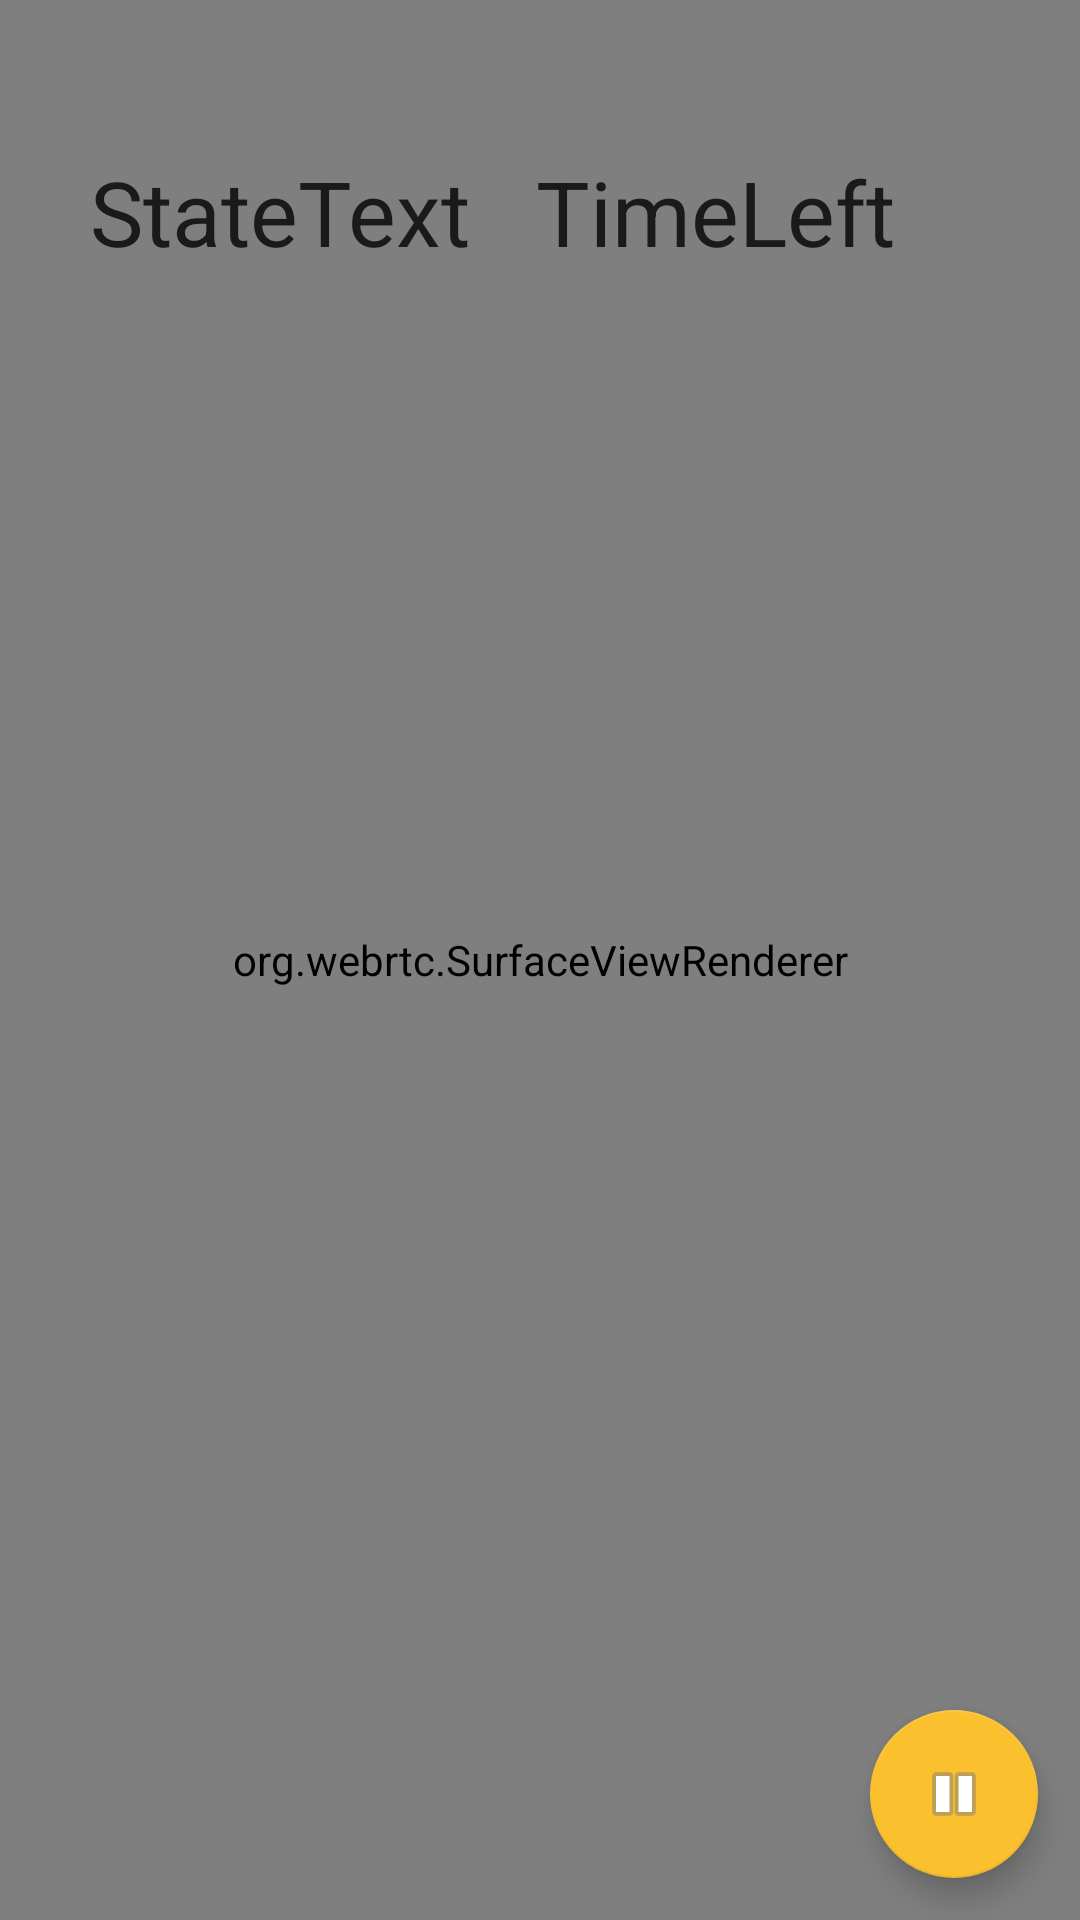

Locate icon controls on the screen. Image size 1080w x 1920h, boxes as (x1, y1, x2, y2).
pause: (870, 1710, 1038, 1878)
